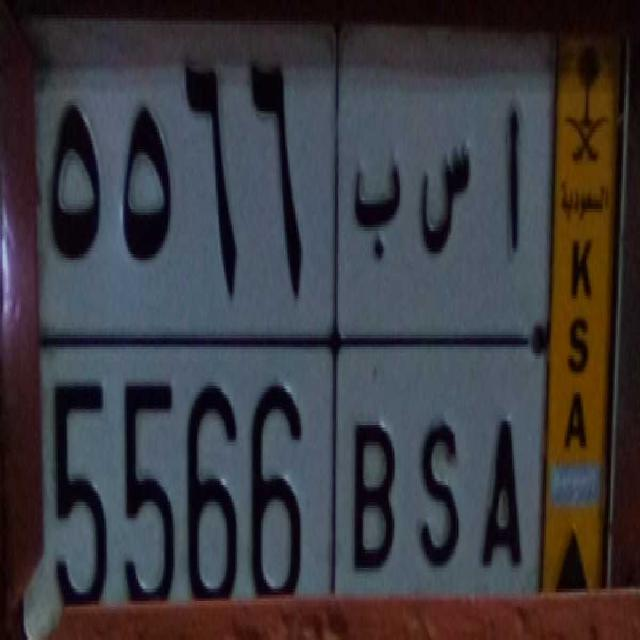license_plate: (35, 332, 544, 640)
